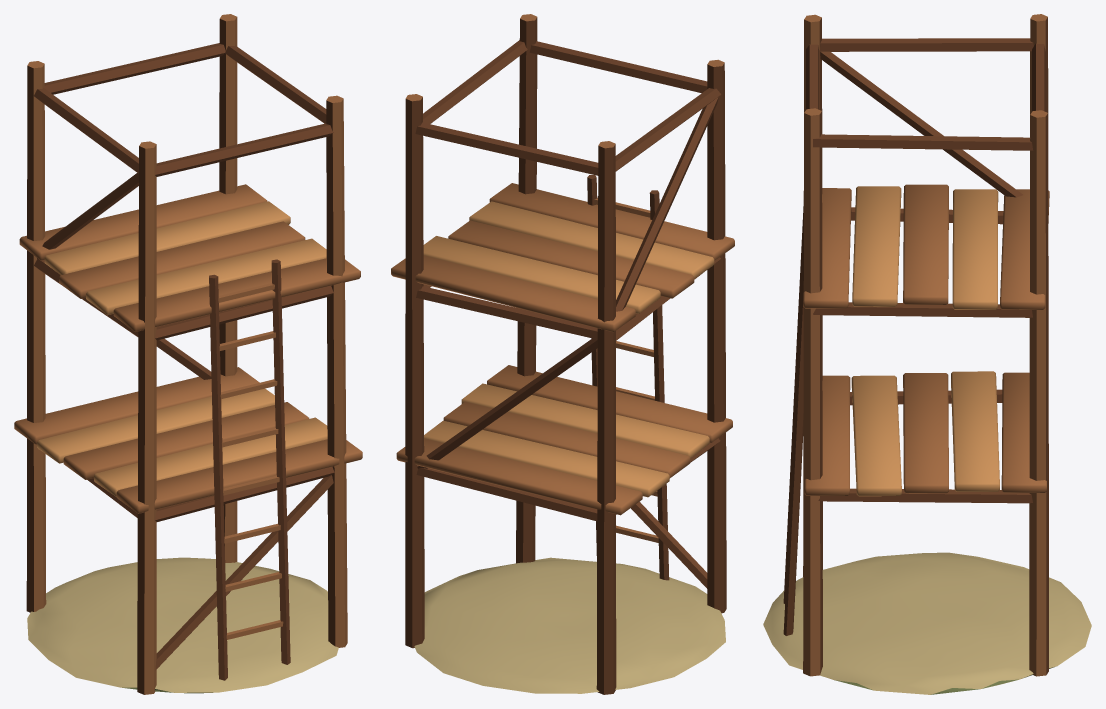
The model's file is Scaffold.fbx.
The picture shows the model from 3 angles, left to right: view 1: azimuth 30°, elevation 25°; view 2: azimuth 150°, elevation 25°; view 3: azimuth 270°, elevation 25°; orthographic projection. The views are drawn at different scales.
Parts seen in each view (by area): view 1: Scaffold; view 2: Scaffold; view 3: Scaffold.
Part boxes in pixels (x1,y1,x2,y2): Scaffold: (14,14,362,694); Scaffold: (391,14,734,694); Scaffold: (763,14,1091,694).
Bounding box in the file's own units: 1.62 × 3 × 1.6.
Materials: 1 (1 with a texture image).
